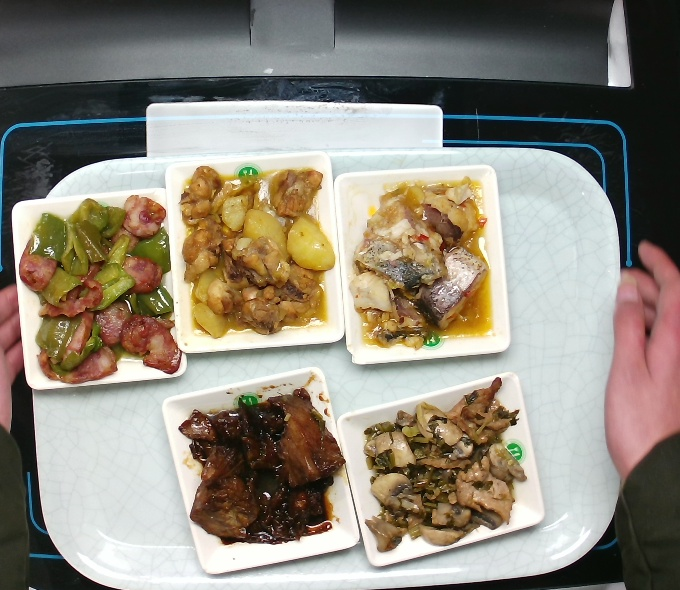wcq-JiangZhiYa: (179, 387, 346, 547)
wcq-MoGuRouPian: (360, 375, 531, 553)
wcq-QingJiaoXiangChang: (17, 194, 183, 386)
wcq-SuanCaiYu: (351, 177, 496, 346)
wcq-TuDouJiKuai: (179, 162, 335, 339)
